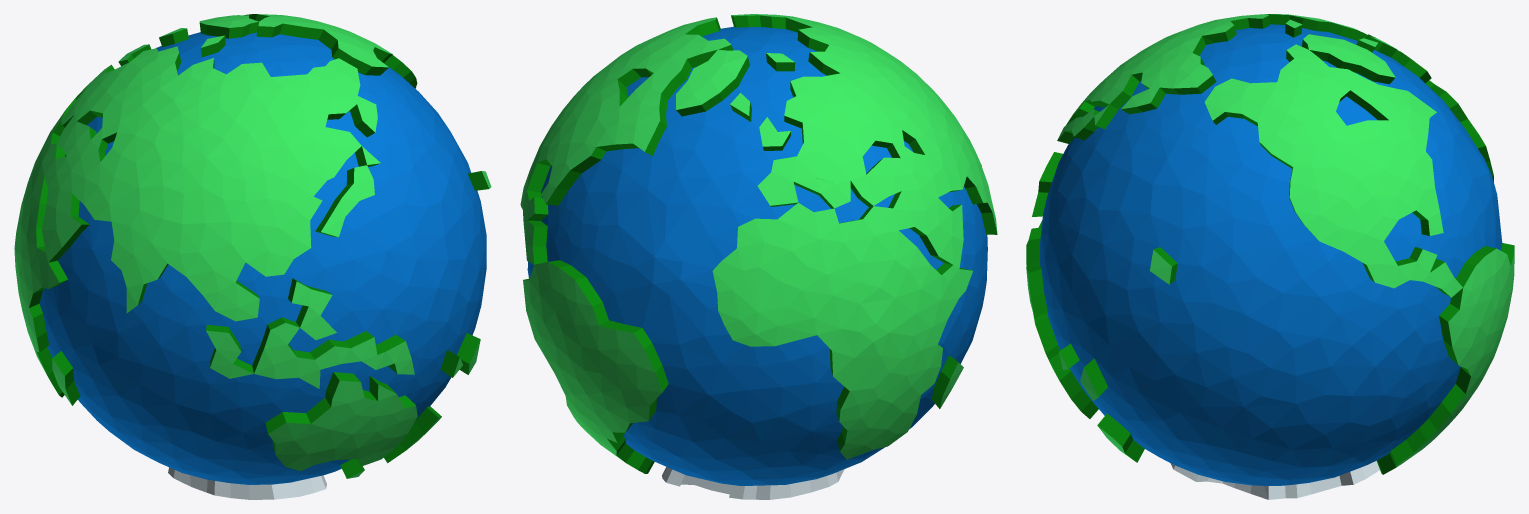
Rendered from Earth.fbx.
3 renders of one model, left to right at view 1: azimuth 30°, elevation 25°; view 2: azimuth 150°, elevation 25°; view 3: azimuth 270°, elevation 25°, orthographic.
Visible parts, largest first — view 1: Sphere; view 2: Sphere; view 3: Sphere.
Boxes of the visible parts, x1,y1,x2,y2 form: Sphere: [14, 14, 491, 499]; Sphere: [520, 14, 997, 499]; Sphere: [1026, 14, 1514, 499].
Size of the model in its own units: 204 by 211 by 211.
